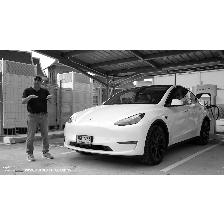EV: (65, 84, 212, 168)
